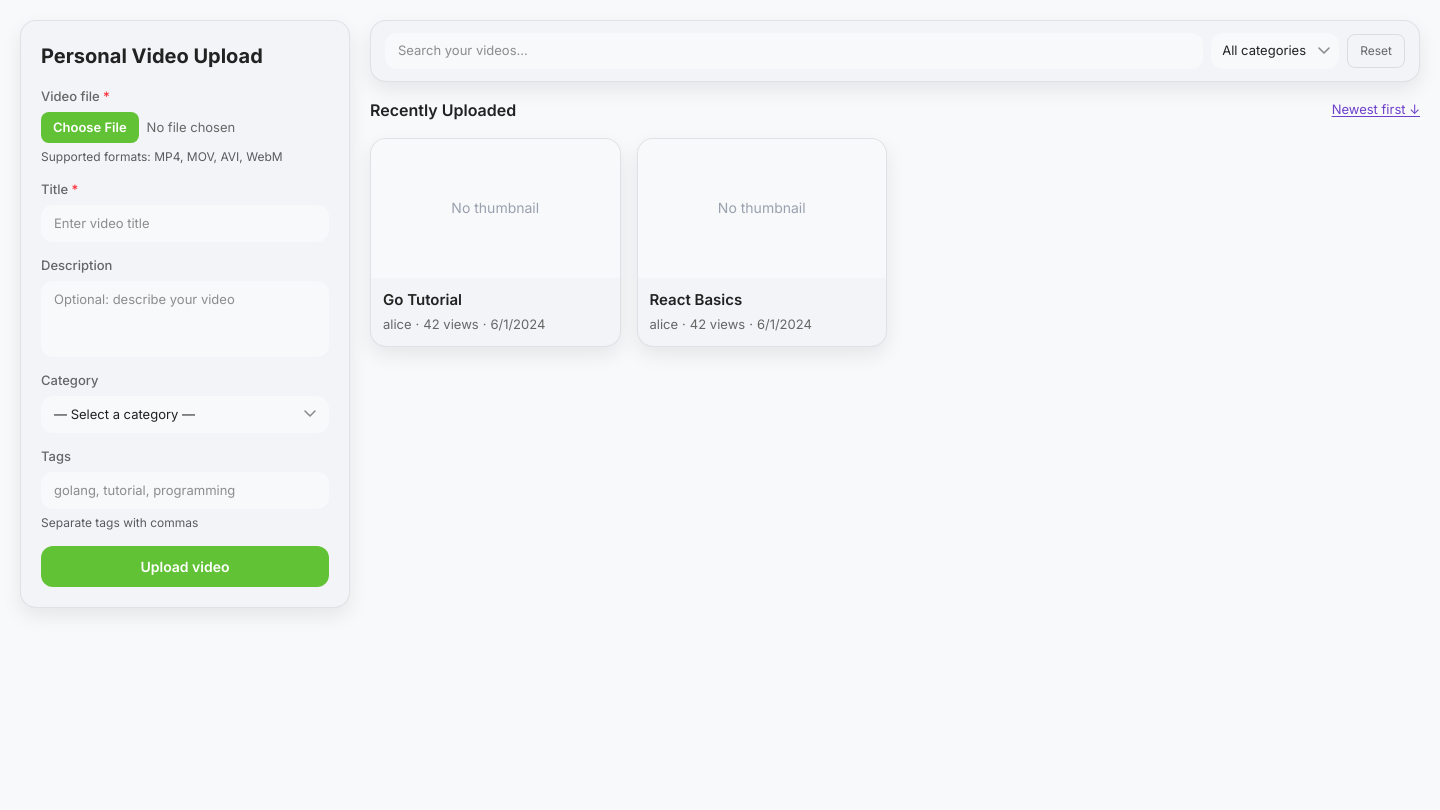
Test: UploadPage › filters videos by search query (title match)
Expected: the link "Go Tutorial" is shown, [383,290,462,309]
Type "React" into the search field named "search videos" at (794, 51), box [385,33,1203,68]
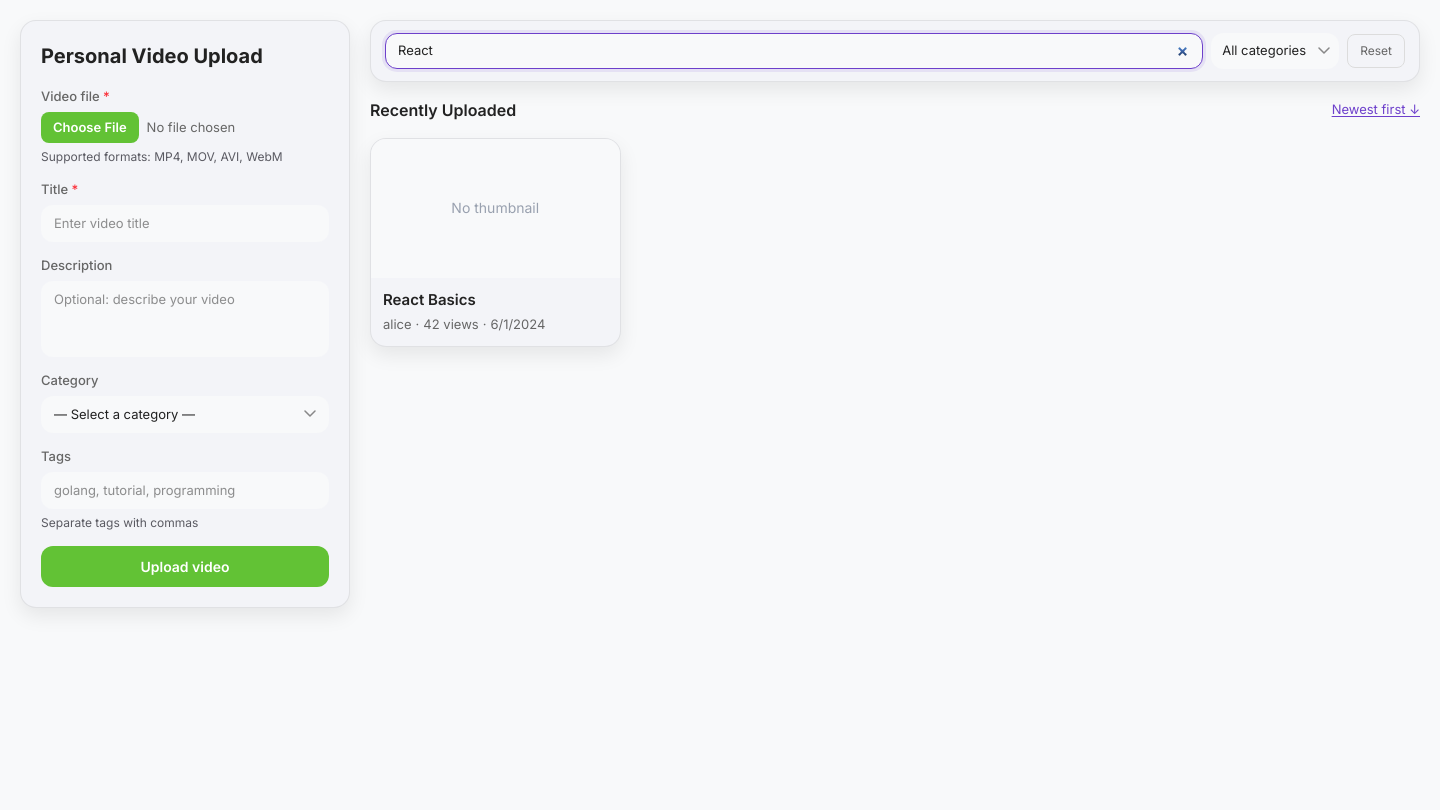
Expected: the link "React Basics" is shown, [383,290,476,309]
Result: the link "Go Tutorial" is gone
